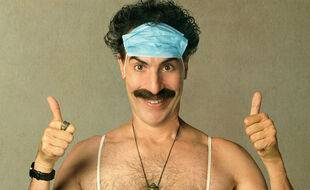with_incorrect_mask: (125, 27, 182, 119)
